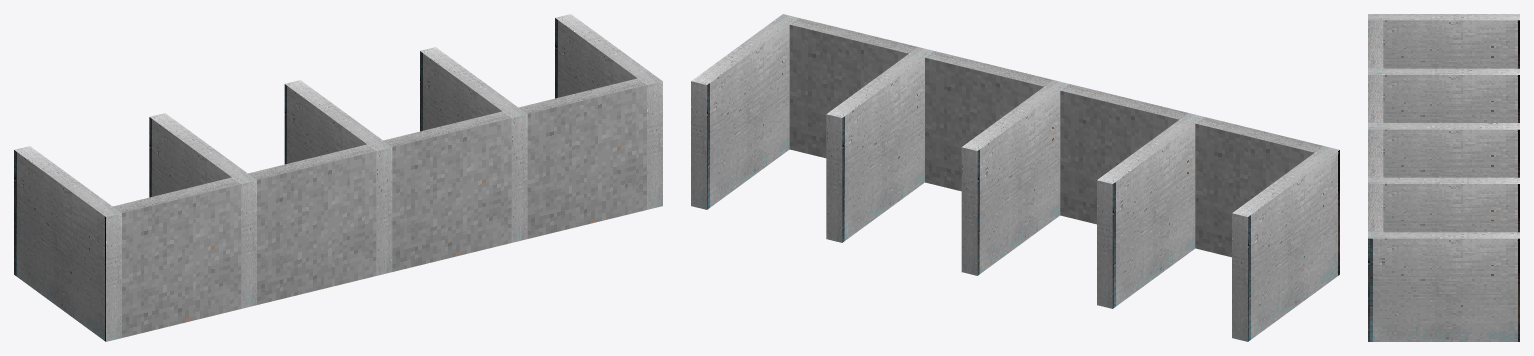
Rendered from toiletcabins.FBX.
The picture shows the model from 3 angles, left to right: view 1: azimuth 30°, elevation 25°; view 2: azimuth 150°, elevation 25°; view 3: azimuth 270°, elevation 25°; orthographic projection. The views are drawn at different scales.
Parts seen in each view (by area): view 1: Box04; view 2: Box04; view 3: Box04.
Boxes of the visible parts, x1=… form: Box04: x1=14, y1=14, x2=662, y2=341; Box04: x1=691, y1=14, x2=1339, y2=341; Box04: x1=1368, y1=14, x2=1519, y2=341.
Bounding box in the file's own units: 70 × 20 × 15.
Materials: 2 (2 with a texture image).
